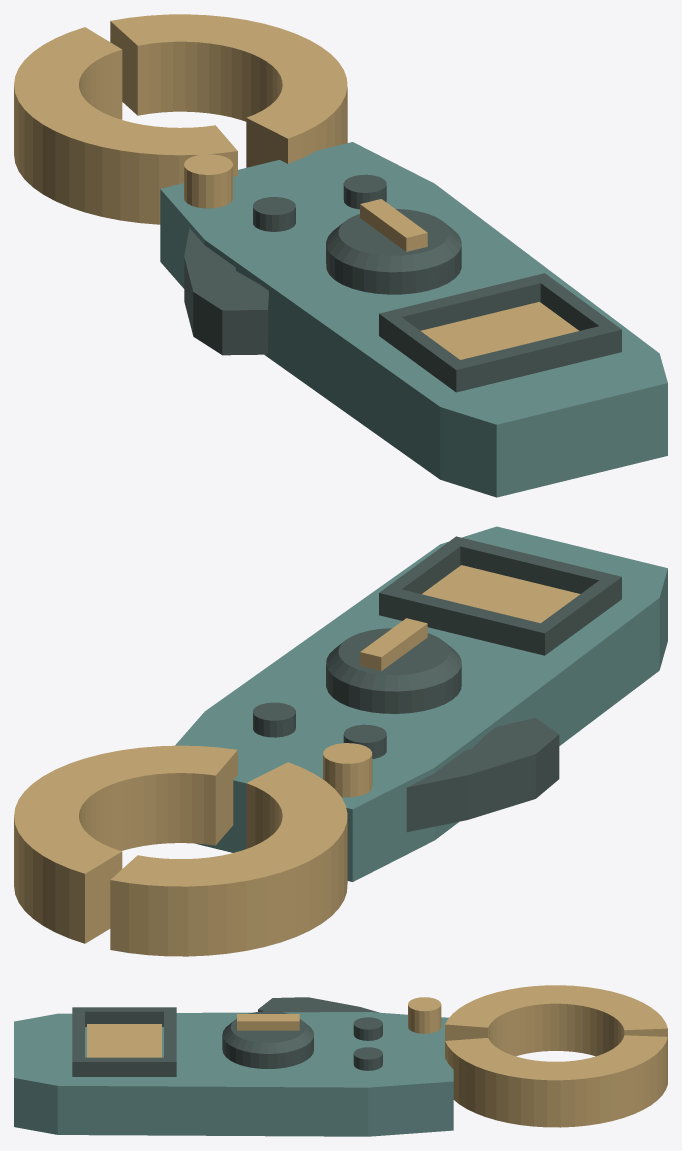
The picture shows the model from 3 angles, top to bottom: view 1: azimuth 30°, elevation 25°; view 2: azimuth 150°, elevation 25°; view 3: azimuth 270°, elevation 25°; orthographic projection. The views are drawn at different scales.
Visible parts, largest first — view 1: WholeTaperedMeterCase, WholeFixedRightCurvedJaw, WholeFixedLeftCurvedJaw, WholeScreenWellRim, WholeBlankRotarySelector, WholeSideTriggerAndPivotArm, WholeRecessedBlankScreen, WholeTriggerPivot, WholeSelectorRaisedGrip, WholeBlankControlButton0, WholeBlankControlButton1; view 2: WholeTaperedMeterCase, WholeFixedLeftCurvedJaw, WholeFixedRightCurvedJaw, WholeScreenWellRim, WholeSideTriggerAndPivotArm, WholeBlankRotarySelector, WholeRecessedBlankScreen, WholeTriggerPivot, WholeSelectorRaisedGrip, WholeBlankControlButton1, WholeBlankControlButton0; view 3: WholeTaperedMeterCase, WholeFixedRightCurvedJaw, WholeFixedLeftCurvedJaw, WholeScreenWellRim, WholeBlankRotarySelector, WholeRecessedBlankScreen, WholeSideTriggerAndPivotArm, WholeTriggerPivot, WholeSelectorRaisedGrip, WholeBlankControlButton1, WholeBlankControlButton0.
Part boxes in pixels (x1,y1,x2,y2): WholeTaperedMeterCase: (160, 142, 667, 497); WholeFixedRightCurvedJaw: (110, 14, 347, 167); WholeFixedLeftCurvedJaw: (14, 27, 237, 224); WholeScreenWellRim: (379, 273, 621, 392); WholeBlankRotarySelector: (326, 209, 461, 294); WholeSideTriggerAndPivotArm: (184, 228, 269, 355); WholeRecessedBlankScreen: (420, 302, 578, 359); WholeTriggerPivot: (184, 154, 232, 208); WholeSelectorRaisedGrip: (360, 199, 427, 251); WholeBlankControlButton0: (253, 197, 295, 231); WholeBlankControlButton1: (343, 174, 386, 209); WholeTaperedMeterCase: (175, 526, 667, 881); WholeFixedLeftCurvedJaw: (110, 762, 347, 956); WholeFixedRightCurvedJaw: (14, 745, 237, 943); WholeScreenWellRim: (379, 536, 621, 655); WholeSideTriggerAndPivotArm: (406, 718, 559, 832); WholeBlankRotarySelector: (326, 628, 461, 713); WholeRecessedBlankScreen: (422, 565, 580, 623); WholeTriggerPivot: (323, 743, 372, 797); WholeSelectorRaisedGrip: (360, 618, 427, 671); WholeBlankControlButton1: (253, 702, 295, 737); WholeBlankControlButton0: (343, 724, 386, 758); WholeTaperedMeterCase: (14, 1012, 453, 1136); WholeFixedRightCurvedJaw: (445, 1035, 667, 1127); WholeFixedLeftCurvedJaw: (445, 985, 667, 1056); WholeScreenWellRim: (72, 1007, 176, 1076); WholeBlankRotarySelector: (222, 1011, 313, 1068); WholeRecessedBlankScreen: (87, 1024, 161, 1057); WholeSideTriggerAndPivotArm: (258, 997, 378, 1012); WholeTriggerPivot: (408, 997, 441, 1033); WholeSelectorRaisedGrip: (237, 1014, 299, 1030); WholeBlankControlButton1: (353, 1047, 382, 1070); WholeBlankControlButton0: (353, 1017, 382, 1040).
Size of the model in its own units: 0.1179 by 0.045 by 0.3138.
